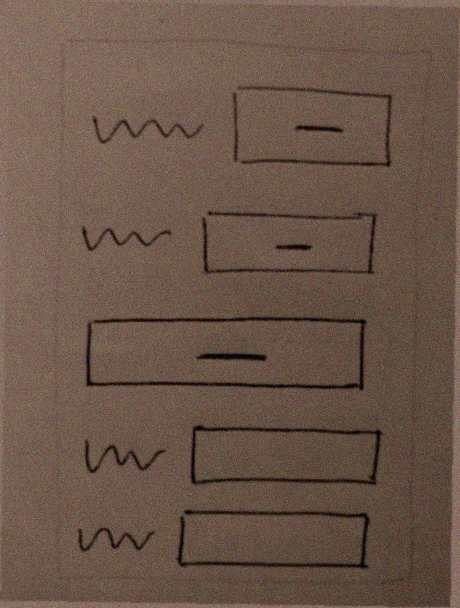button: (78, 310, 374, 402), (224, 78, 399, 177), (198, 205, 382, 285)
text: (83, 103, 209, 160), (70, 208, 195, 264), (63, 509, 174, 564), (69, 428, 180, 482)
text_input: (183, 418, 389, 494), (172, 502, 378, 578)
